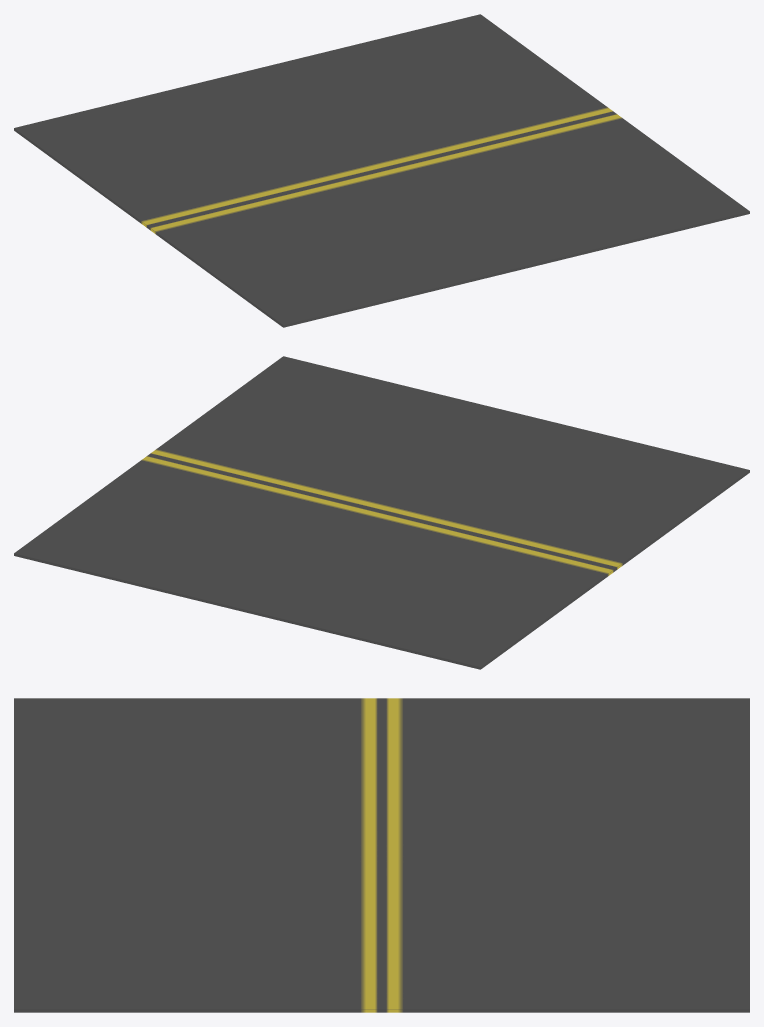
File: ROADcentre.glb
The picture shows the model from 3 angles, top to bottom: view 1: azimuth 30°, elevation 25°; view 2: azimuth 150°, elevation 25°; view 3: azimuth 270°, elevation 25°; orthographic projection. The views are drawn at different scales.
Parts seen in each view (by area): view 1: Plane.035; view 2: Plane.035; view 3: Plane.035.
Boxes of the visible parts, box(x1,y1,x2,y2) form: Plane.035: box(14, 14, 749, 327); Plane.035: box(14, 356, 749, 669); Plane.035: box(14, 698, 749, 1012).
Bounding box in the file's own units: 15 × 0.0792 × 15.
